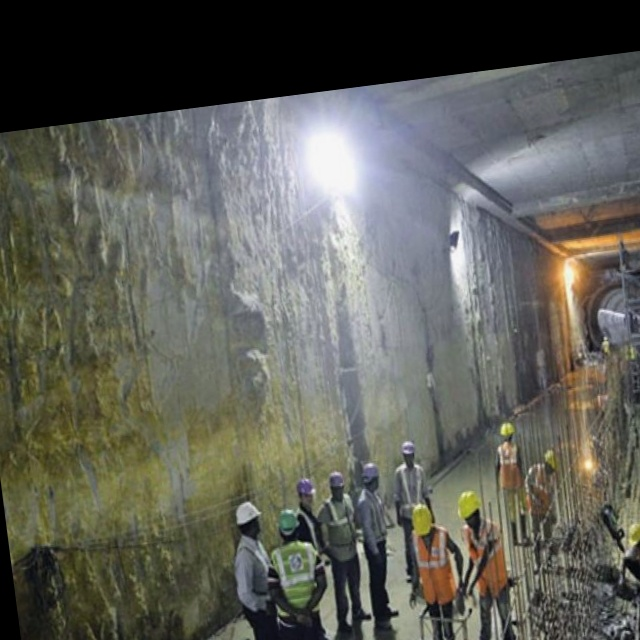Con_Casco: (456, 489, 483, 523)
Con_Chaleco: (270, 541, 325, 620), (412, 528, 455, 604), (464, 522, 508, 594)
